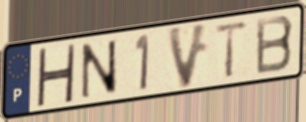1: (133, 31, 151, 93)
B: (254, 13, 296, 77)
H: (34, 43, 77, 108)
N: (80, 38, 120, 102)
T: (213, 18, 250, 81)
V: (165, 20, 211, 91)
